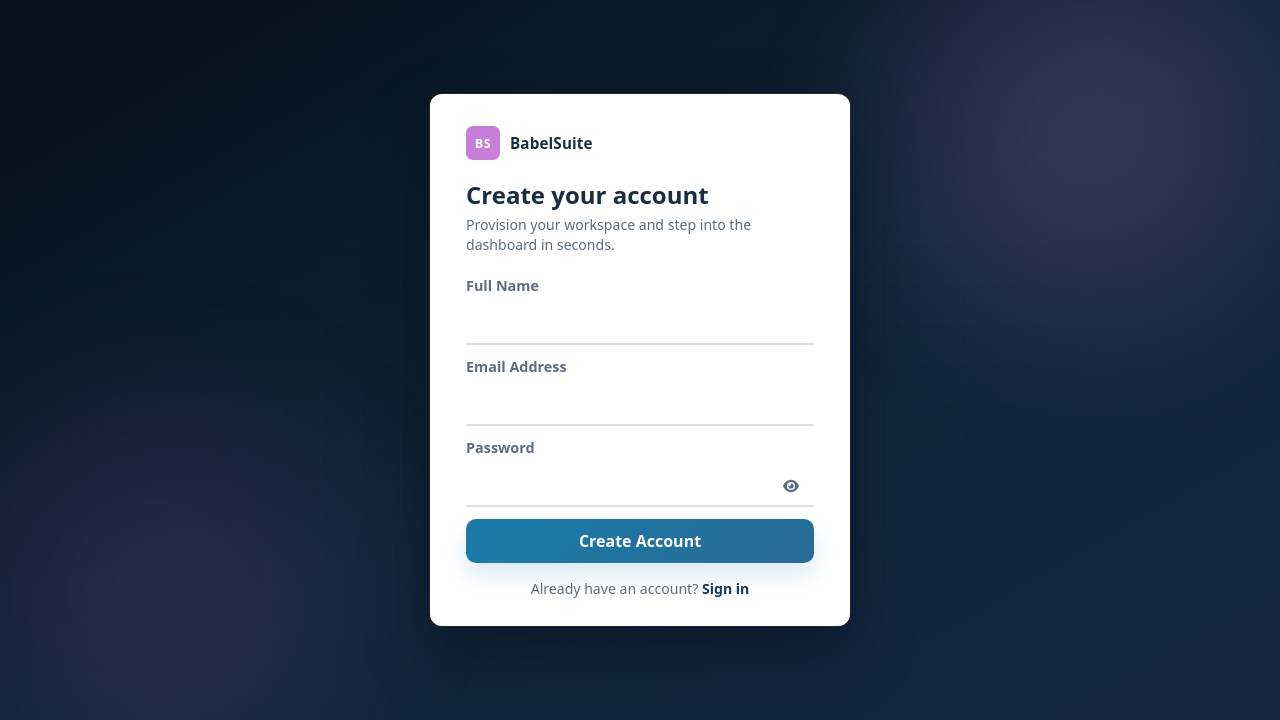
SignUp › shows Needs work label for a weak password
Type "abc" into the password field labelled "Password".
click(640, 486); type("abc")  # box [466,465,814,507]
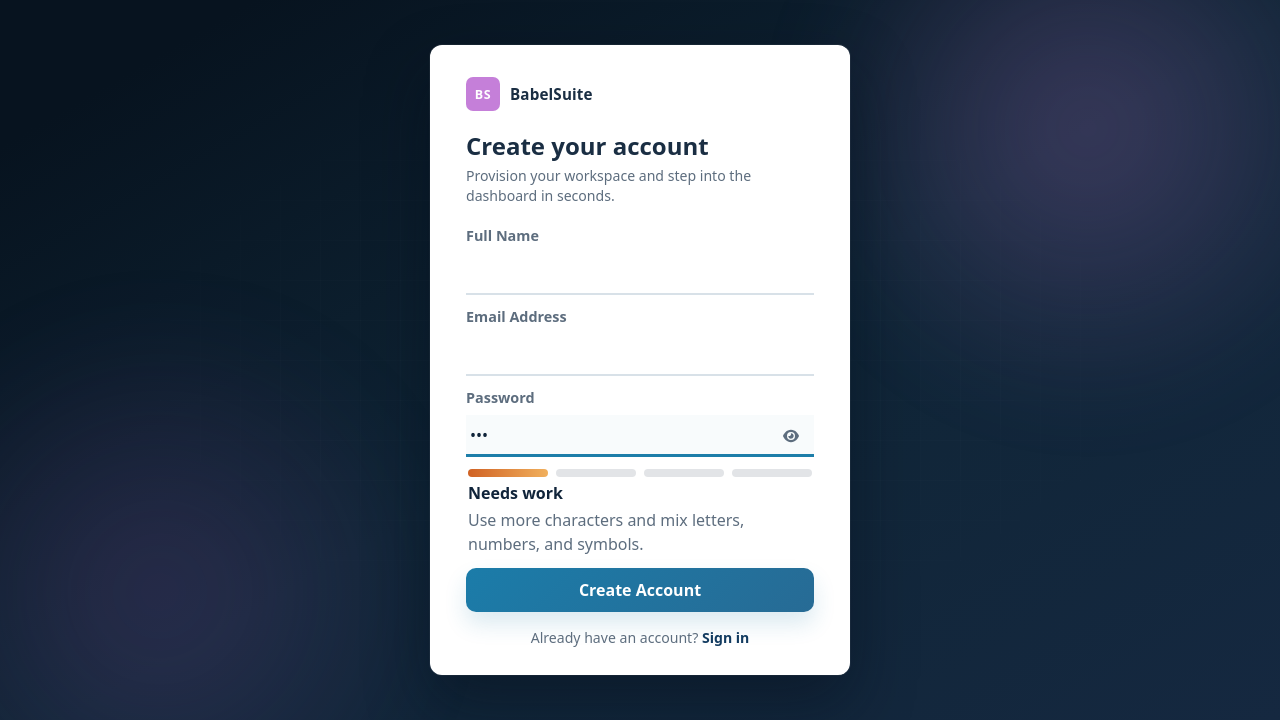
Expected: the text "Needs work" is shown, [468,482,563,504]
